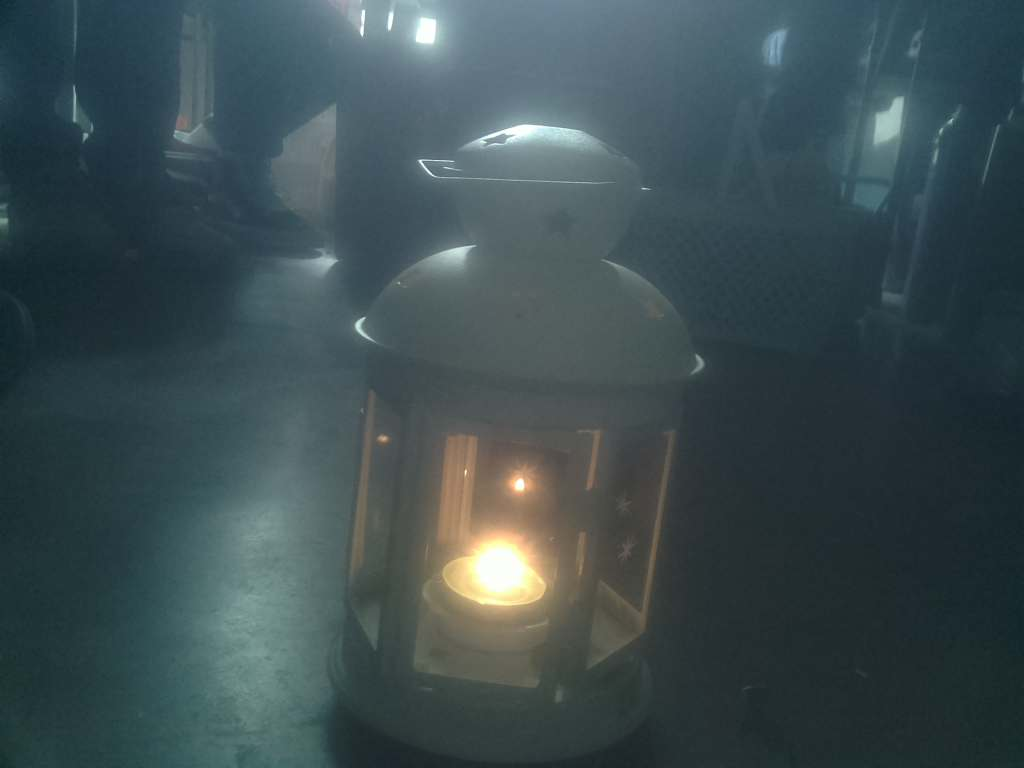fire: (436, 527, 577, 647)
